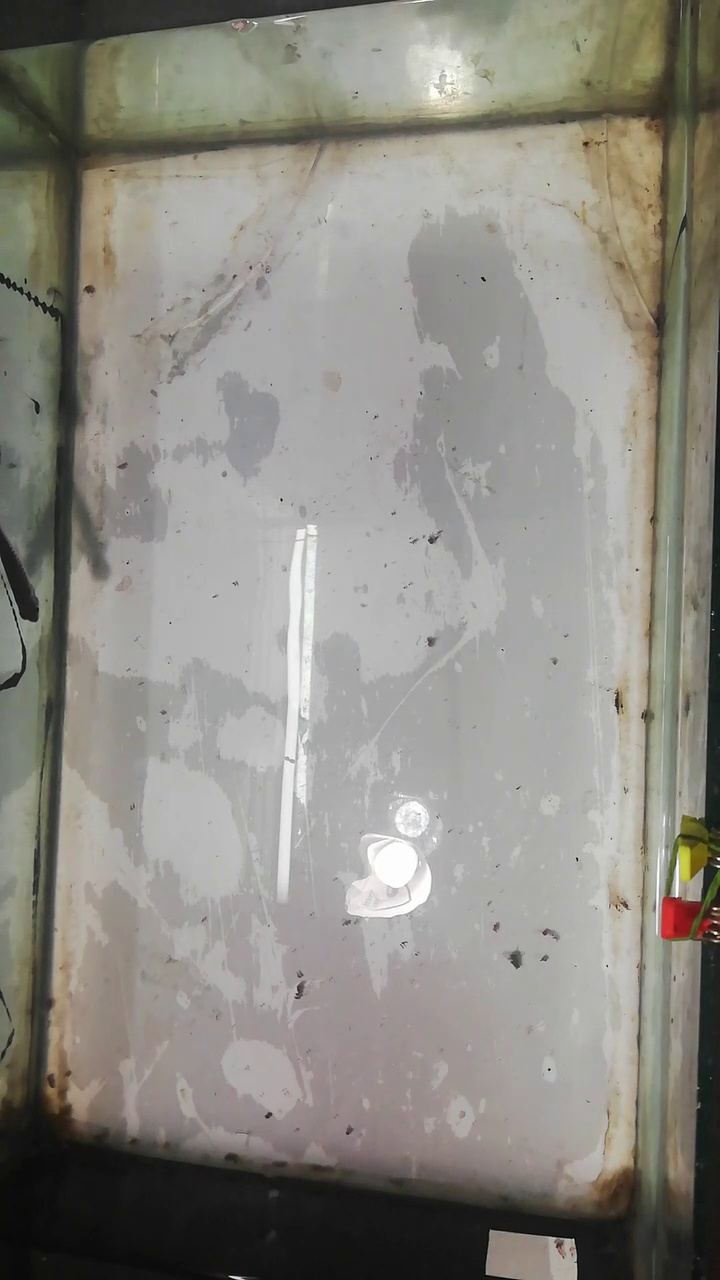fish1: (68, 480, 112, 584)
